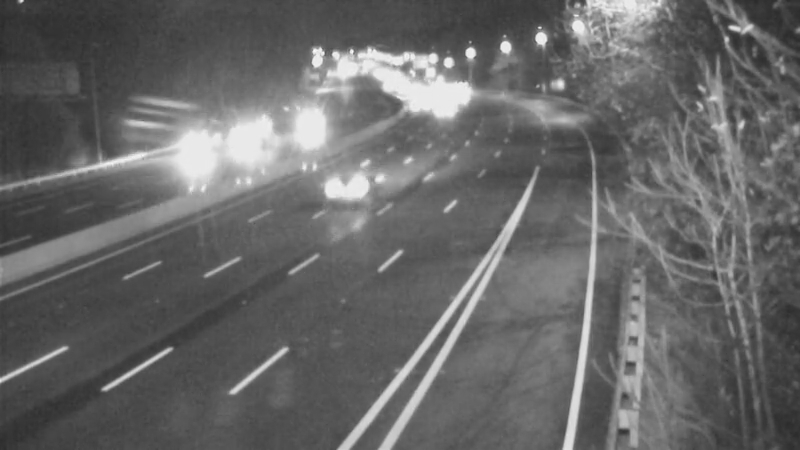vehicle: (303, 148, 383, 228), (135, 117, 215, 197), (221, 110, 271, 160), (286, 105, 336, 155), (246, 104, 296, 154)
